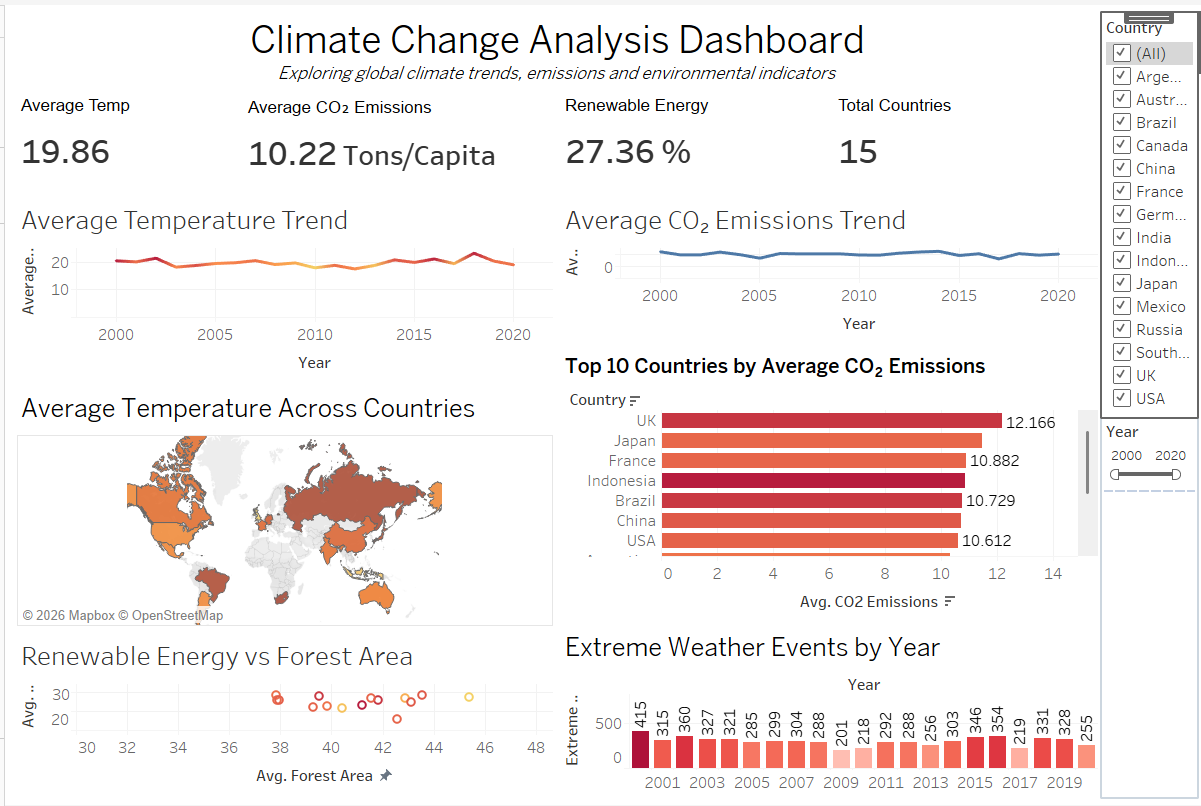

The page's visual inventory and layout, read from the dashboard file:
{"tool":"tableau","page":{"name":"Dashboard 1","canvas":[1200,800],"ordinal":0},"visuals":[{"type":"text","box":[8,8,1089,75]},{"type":"filter","title":"Average Temperature","param":"[federated.0f9fh9a0jhu3hy1exe1w700t109t].[none:Country:nk]","box":[1097,8,95,404]},{"type":"worksheet","title":"Sheet 7","mark":"Automatic","box":[8,83,226.5,106]},{"type":"worksheet","title":"Sheet 8","mark":"Automatic","box":[234.5,83,318,106]},{"type":"worksheet","title":"Sheet 9","mark":"Automatic","box":[552.5,83,272.3,106]},{"type":"worksheet","title":"Sheet 10","mark":"Automatic","box":[824.7,83,272.3,106]},{"type":"worksheet","title":"Average Temperature","mark":"Automatic","rows":["Avg Temperature "],"cols":["Year"],"box":[8,189,544.5,190]},{"type":"worksheet","title":"Average CO2 Emissions","mark":"Automatic","rows":["CO2 Emissions"],"cols":["Year"],"box":[552.5,189,544.5,151]},{"type":"worksheet","title":"Top 10 CO₂ Emissions by Country","mark":"Automatic","rows":["Country"],"cols":["CO2 Emissions"],"box":[552.5,340,544.5,278]},{"type":"worksheet","title":"Average Temperature by Country","mark":"Automatic","box":[8,379,544.5,246]},{"type":"filter","title":"Average Temperature","param":"[federated.0f9fh9a0jhu3hy1exe1w700t109t].[none:Year:qk]","box":[1097,412,95,73]},{"type":"worksheet","title":"Extreme weather events","mark":"Bar","rows":["Extreme Weather Events"],"cols":["Year"],"box":[552.5,618,544.5,174]},{"type":"worksheet","title":"Renewable Energy vs Forest Area","mark":"Automatic","rows":["Renewable Energy"],"cols":["Forest Area"],"box":[8,625,544.5,167]}]}

Visuals, with their boxes in screenshot pixels (x1, y1, x2, y2), scaled from the page's 1200x800 canvas onto the 1201x806 screenshot:
text: locate(8, 8, 1098, 84)
"Average Temperature" filter: locate(1098, 8, 1193, 415)
"Sheet 7" worksheet: locate(8, 84, 235, 190)
"Sheet 8" worksheet: locate(235, 84, 553, 190)
"Sheet 9" worksheet: locate(553, 84, 825, 190)
"Sheet 10" worksheet: locate(825, 84, 1098, 190)
"Average Temperature" worksheet: locate(8, 190, 553, 382)
"Average CO2 Emissions" worksheet: locate(553, 190, 1098, 343)
"Top 10 CO₂ Emissions by Country" worksheet: locate(553, 343, 1098, 623)
"Average Temperature by Country" worksheet: locate(8, 382, 553, 630)
"Average Temperature" filter: locate(1098, 415, 1193, 489)
"Extreme weather events" worksheet (Bar marks): locate(553, 623, 1098, 798)
"Renewable Energy vs Forest Area" worksheet: locate(8, 630, 553, 798)
